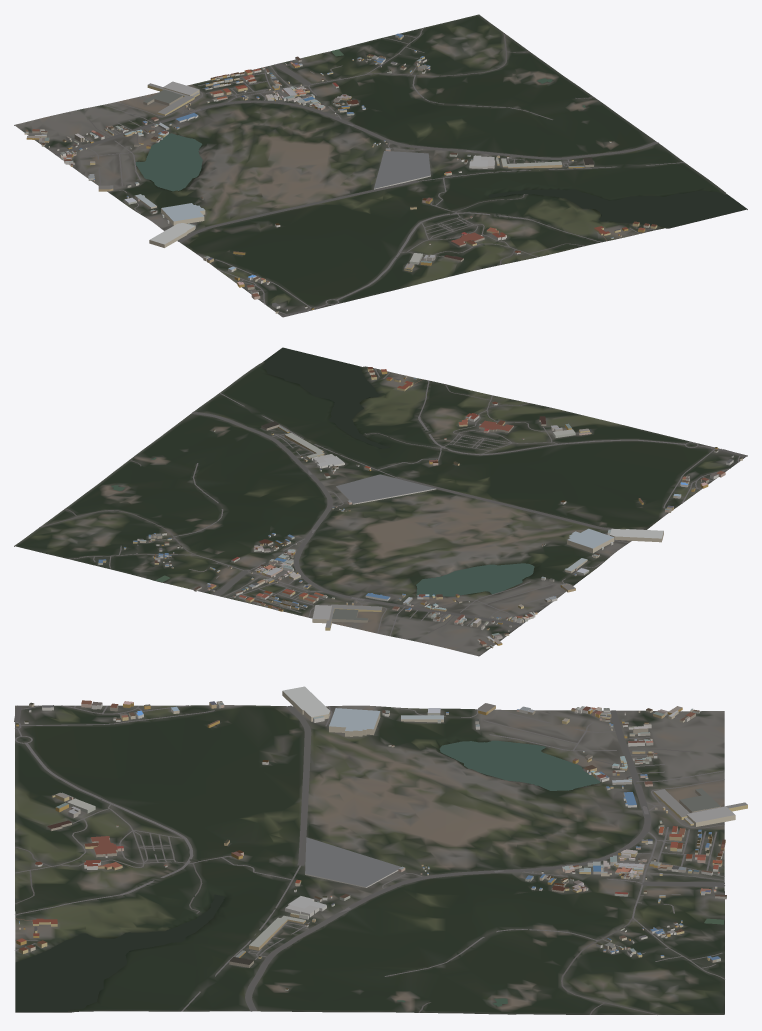
3 renders of one model, top to bottom at view 1: azimuth 30°, elevation 25°; view 2: azimuth 150°, elevation 25°; view 3: azimuth 270°, elevation 25°, orthographic. The views are drawn at different scales.
Parts seen in each view (by area): view 1: ground, buildings, water, roads; view 2: ground, buildings, water, roads; view 3: ground, buildings, water, roads.
Part boxes in pixels (x1=…): ground: x1=14, y1=14, x2=747, y2=317; buildings: x1=24, y1=33, x2=657, y2=313; water: x1=135, y1=49, x2=746, y2=227; roads: x1=28, y1=27, x2=684, y2=316; ground: x1=14, y1=348, x2=747, y2=656; buildings: x1=98, y1=367, x2=742, y2=648; water: x1=111, y1=347, x2=534, y2=596; roads: x1=39, y1=368, x2=747, y2=647; ground: x1=15, y1=705, x2=724, y2=1014; buildings: x1=16, y1=686, x2=747, y2=990; water: x1=15, y1=740, x2=724, y2=1011; roads: x1=14, y1=705, x2=724, y2=1014.
Bounding box in the file's own units: 1472 × 37.13 × 1448.
